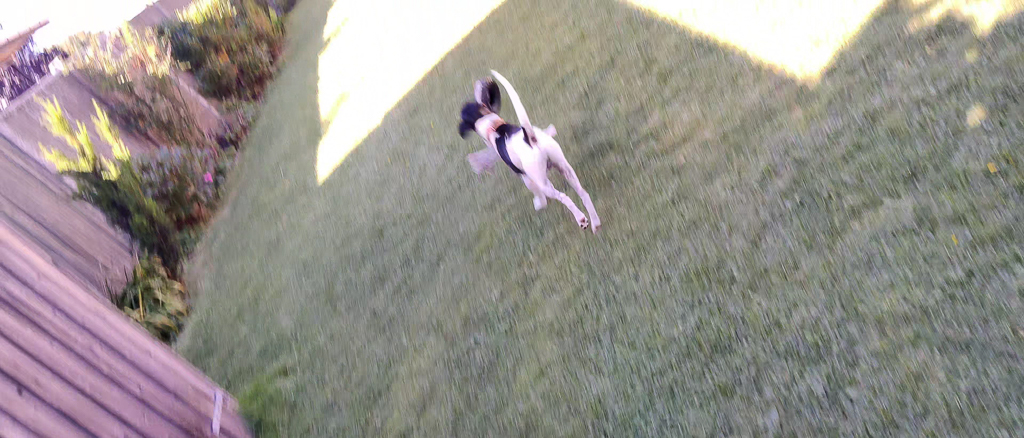Dog: (440, 64, 616, 240)
